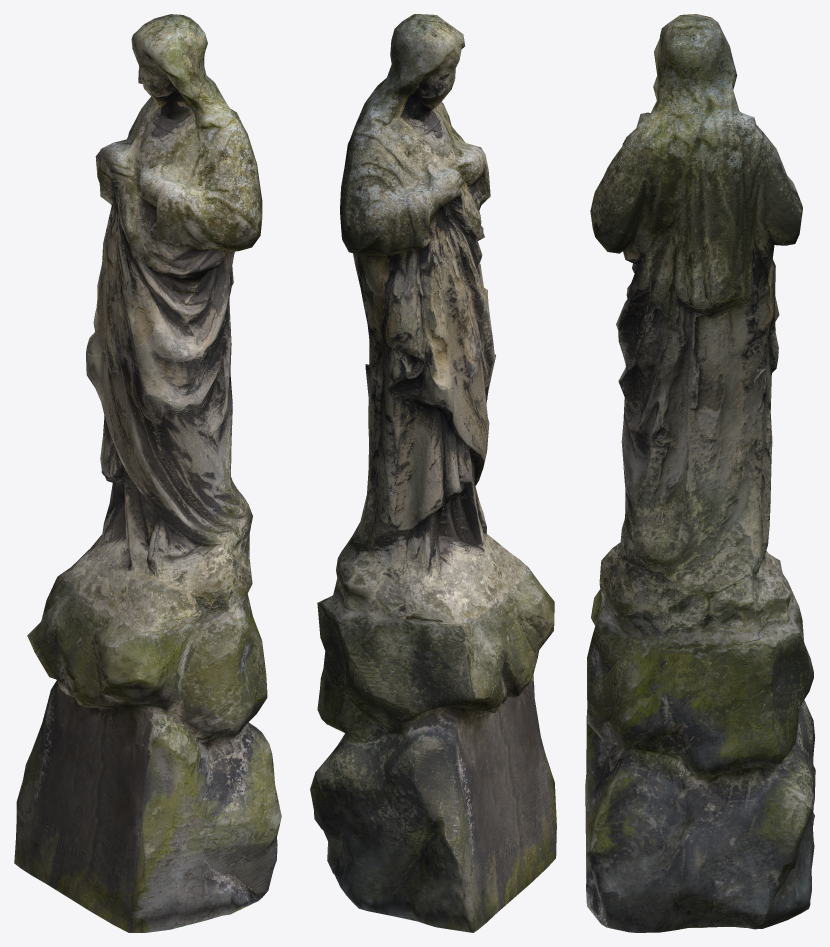
Rendered from sm_GraveSculpture_01_01.fbx.
3 views of the same model, side by side, from view 1: azimuth 30°, elevation 25°; view 2: azimuth 150°, elevation 25°; view 3: azimuth 270°, elevation 25° (orthographic). The views are drawn at different scales.
Visible parts, largest first — view 1: sm_GraveSculpture_01_01_LOD0; view 2: sm_GraveSculpture_01_01_LOD0; view 3: sm_GraveSculpture_01_01_LOD0.
Boxes of the visible parts, x1=… form: sm_GraveSculpture_01_01_LOD0: x1=14, y1=14, x2=281, y2=932; sm_GraveSculpture_01_01_LOD0: x1=310, y1=14, x2=556, y2=932; sm_GraveSculpture_01_01_LOD0: x1=585, y1=14, x2=815, y2=932.
Size of the model in its own units: 69.15 by 75.95 by 324.
